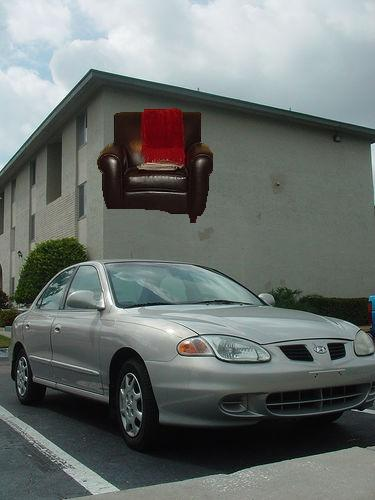tampered: (98, 109, 213, 223)
